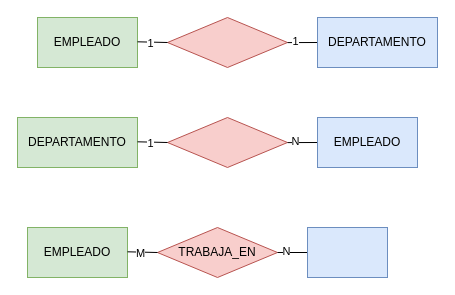
Some shapes in this 455 by 295 pixel diagram are drawn without their labels. The shapes that lost their labels are listed below. From the top down, each one's box as (x1, y1, x2, y2) in pixels, then its label:
(166, 16, 288, 68): ADMINISTRA
(166, 116, 288, 168): TRABAJA_PARA
(306, 226, 388, 278): PROYECTO
